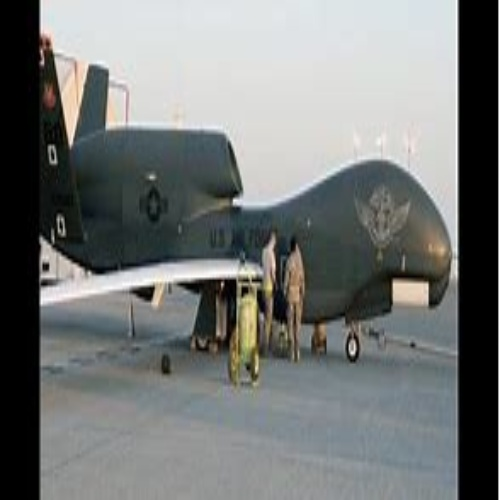uav564: (38, 37, 450, 365)
